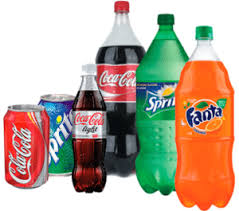fanta: (177, 42, 234, 209)
